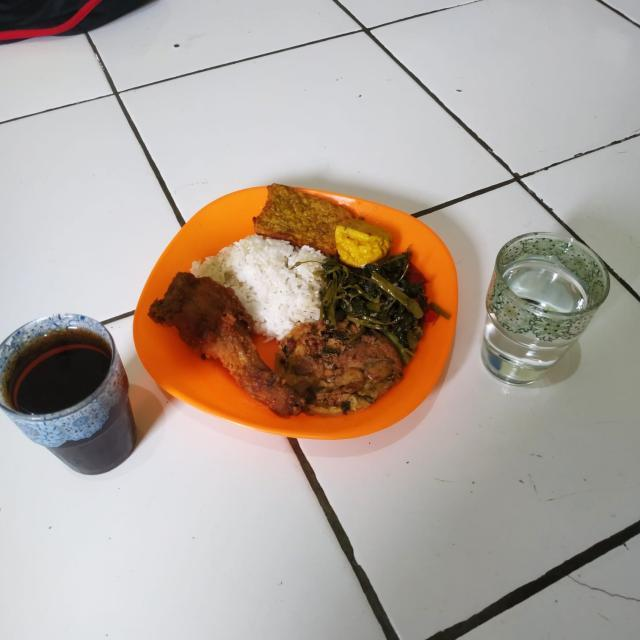ayam_goreng: (146, 258, 310, 420)
telur_ayam_dadar: (275, 300, 410, 428)
